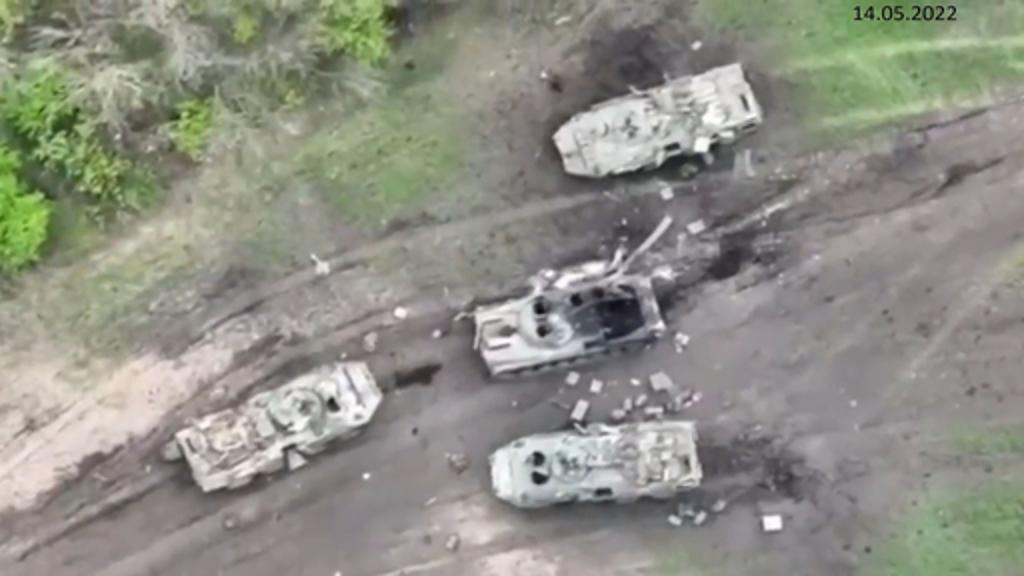APC-IFV: (172, 352, 386, 500), (550, 58, 766, 190), (470, 262, 676, 384), (476, 412, 700, 510)
